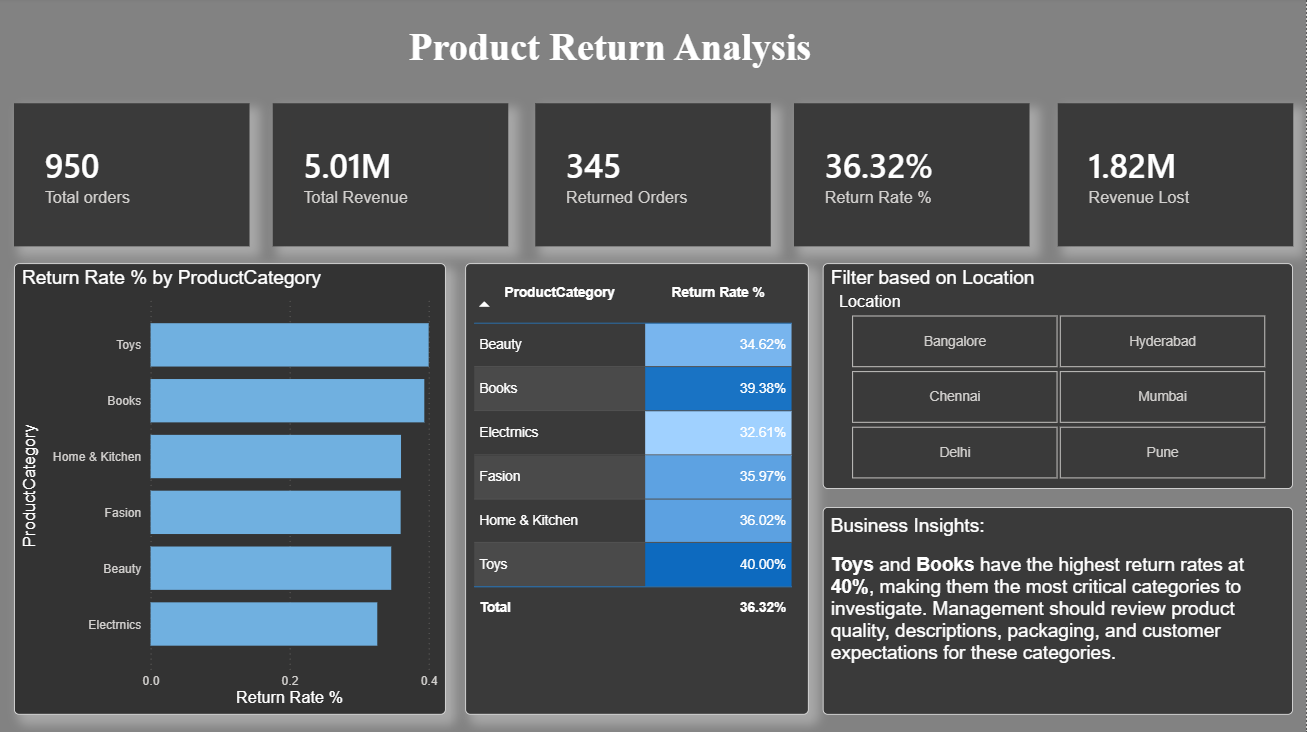

The dashboard page shown, as its layout file describes it:
{"tool":"powerbi","page":{"name":"Product Return Analysis","canvas":[1280,720],"ordinal":2},"visuals":[{"type":"cardVisual","fields":{"Data":["ecommerce_messy_data (1).Total orders"]},"box":[15.1,104.3,230.5,140],"z":0},{"type":"cardVisual","fields":{"Data":["ecommerce_messy_data (1).Returned Orders"]},"box":[524.2,104.3,230.5,140],"z":1000},{"type":"cardVisual","fields":{"Data":["ecommerce_messy_data (1).Return Rate %"]},"box":[778,104.3,230.5,140],"z":2000},{"type":"cardVisual","fields":{"Data":["Sum(ecommerce_messy_data (1).TotalAmount)"]},"box":[267.6,104.3,230.5,140],"z":3000},{"type":"cardVisual","fields":{"Data":["ecommerce_messy_data (1).Revenue Lost"]},"box":[1036,104.3,230.5,140],"z":4000},{"type":"clusteredBarChart","fields":{"Category":["ecommerce_messy_data (1).ProductCategory"],"Y":["ecommerce_messy_data (1).Return Rate %"]},"box":[15.1,260.7,422.6,441.9],"z":5000},{"type":"tableEx","fields":{"Values":["ecommerce_messy_data (1).ProductCategory","ecommerce_messy_data (1).Return Rate %"]},"box":[455.6,260.7,336.2,441.9],"z":6000},{"type":"textbox","box":[805.5,499.5,459.7,203.1],"z":7000},{"type":"slicer","title":"Filter based on Location ","fields":{"Values":["ecommerce_messy_data (1).CustomerLocation"]},"box":[805.5,260.7,459.7,220.9],"z":8000},{"type":"textbox","box":[396.6,22,419.9,65.9],"z":9000}]}

Visuals, with their boxes in screenshot pixels (x1, y1, x2, y2), scaled from the page's 1280x720 canvas onto the 1307x732 screenshot:
cardVisual - ecommerce_messy_data (1).Total orders: 15,106,251,248
cardVisual - ecommerce_messy_data (1).Returned Orders: 535,106,771,248
cardVisual - ecommerce_messy_data (1).Return Rate %: 794,106,1030,248
cardVisual - Sum(ecommerce_messy_data (1).TotalAmount): 273,106,509,248
cardVisual - ecommerce_messy_data (1).Revenue Lost: 1058,106,1293,248
clusteredBarChart - ecommerce_messy_data (1).ProductCategory x ecommerce_messy_data (1).Return Rate %: 15,265,447,714
tableEx - ecommerce_messy_data (1).ProductCategory x ecommerce_messy_data (1).Return Rate %: 465,265,809,714
textbox: 822,508,1292,714
"Filter based on Location " slicer: 822,265,1292,490
textbox: 405,22,834,89
